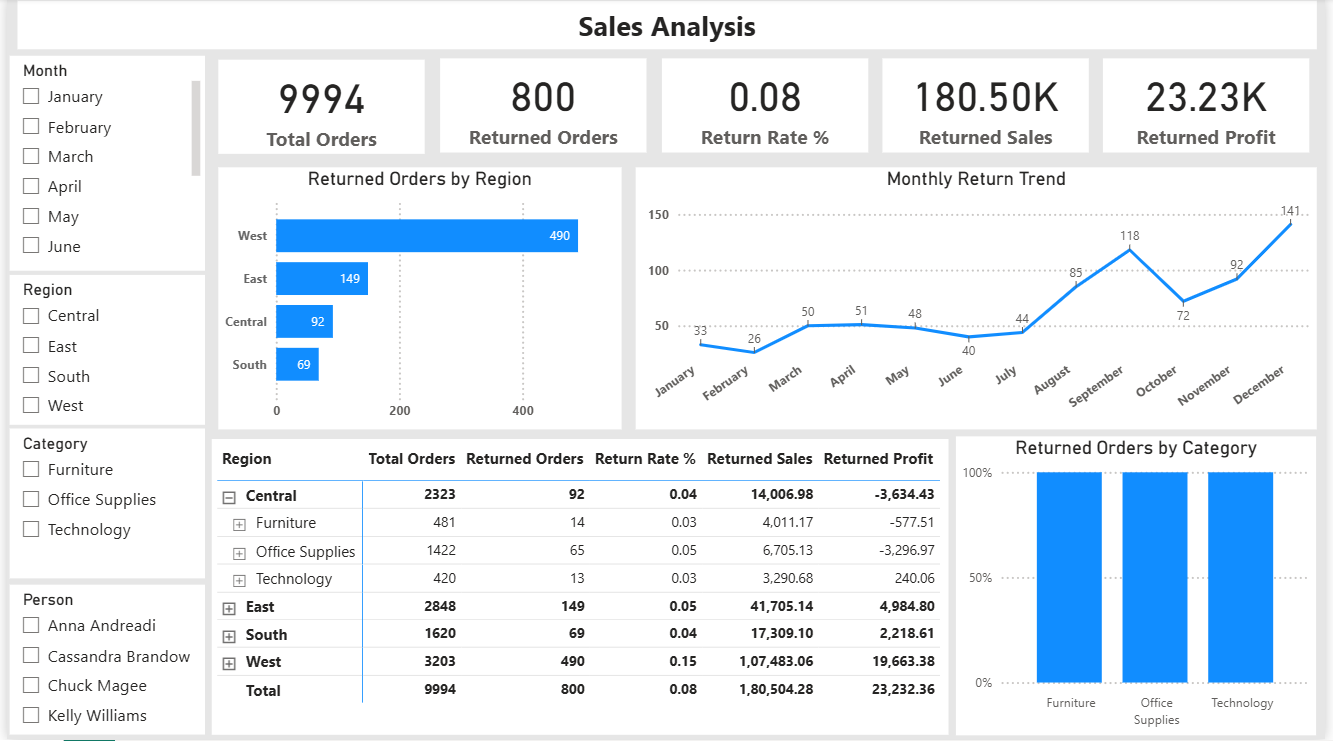

Layout of this report page (visuals, bound fields, positions):
{"tool":"powerbi","page":{"name":"Overview","canvas":[1280,720],"ordinal":0},"visuals":[{"type":"card","title":"Total Orders","fields":{"Values":["Orders.Total Orders"]},"box":[205.7,60,200,91.4],"z":0},{"type":"card","title":"Returned Orders","fields":{"Values":["Orders.Returned Orders"]},"box":[420,58.6,200,91.4],"z":1000},{"type":"card","title":"Return Rate %","fields":{"Values":["Orders.Return Rate %"]},"box":[635.7,58.6,200,91.4],"z":2000},{"type":"card","title":"Returned Sales","fields":{"Values":["Orders.Returned Sales"]},"box":[850,58.6,200,91.4],"z":3000},{"type":"card","title":"Returned Profit","fields":{"Values":["Orders.Returned Proft"]},"box":[1064.3,58.6,200,91.4],"z":4000},{"type":"hundredPercentStackedColumnChart","title":"Returned Orders by Category","fields":{"Category":["Orders.Category"],"Y":["Returns.Count.Returned Order ID"]},"box":[921.4,425.7,350,290],"z":5000},{"type":"lineChart","title":"Monthly Return Trend","fields":{"Y":["Orders.Returned Orders"],"Category":["Orders.Order Date.Variation.Date Hierarchy.Month"]},"box":[610,164.3,661.4,254.3],"z":6000},{"type":"clusteredBarChart","title":"Returned Orders by Region","fields":{"Y":["Orders.Returned Orders"],"Category":["Orders.Region"]},"box":[205.7,164.3,391.4,254.3],"z":7000},{"type":"pivotTable","fields":{"Rows":["Orders.Region","Orders.Category","Orders.Sub-Category"],"Values":["Orders.Total Orders","Orders.Returned Orders","Orders.Return Rate %","Orders.Returned Sales","Orders.Returned Profit"]},"box":[198.6,428.6,715.7,287.1],"z":8000},{"type":"textbox","box":[10,2.9,1261.4,47.1],"z":9000},{"type":"slicer","fields":{"Values":["Orders.Region"]},"box":[2.9,268.6,190,145.7],"z":10000},{"type":"slicer","fields":{"Values":["Orders.Category"]},"box":[2,418.6,190,145.7],"z":11000},{"type":"slicer","fields":{"Values":["Orders.Order Date.Variation.Date Hierarchy.Month"]},"box":[2.9,55.7,190,208.6],"z":12000},{"type":"slicer","fields":{"Values":["People.Person"]},"box":[2,570,190,145.7],"z":13000}]}

Visuals, with their boxes in screenshot pixels (x1, y1, x2, y2), scaled from the page's 1280x720 canvas onto the 1333x741 screenshot:
"Total Orders" card: box=[214, 62, 422, 156]
"Returned Orders" card: box=[437, 60, 646, 154]
"Return Rate %" card: box=[662, 60, 870, 154]
"Returned Sales" card: box=[885, 60, 1093, 154]
"Returned Profit" card: box=[1108, 60, 1317, 154]
"Returned Orders by Category" hundredPercentStackedColumnChart: box=[960, 438, 1324, 737]
"Monthly Return Trend" lineChart: box=[635, 169, 1324, 431]
"Returned Orders by Region" clusteredBarChart: box=[214, 169, 622, 431]
pivotTable - Orders.Region x Orders.Category: box=[207, 441, 952, 737]
textbox: box=[10, 3, 1324, 51]
slicer - Orders.Region: box=[3, 276, 201, 426]
slicer - Orders.Category: box=[2, 431, 200, 581]
slicer - Orders.Order Date.Variation.Date Hierarchy.Month: box=[3, 57, 201, 272]
slicer - People.Person: box=[2, 587, 200, 737]
